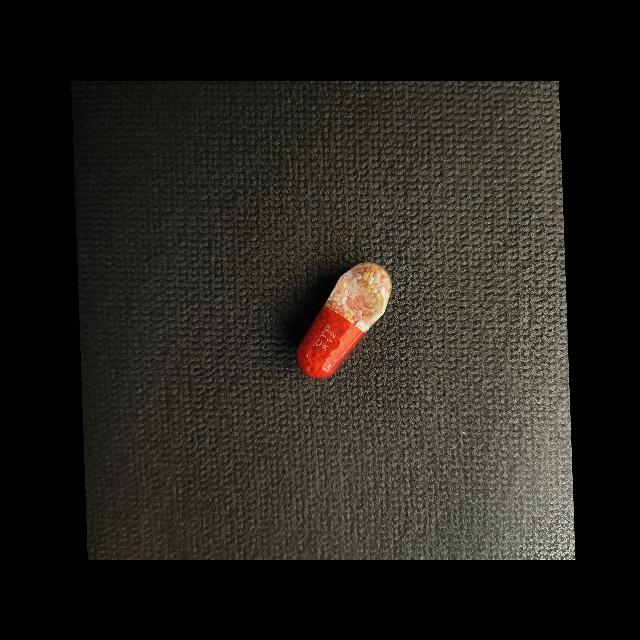Defective Capsule: (297, 262, 392, 378)
